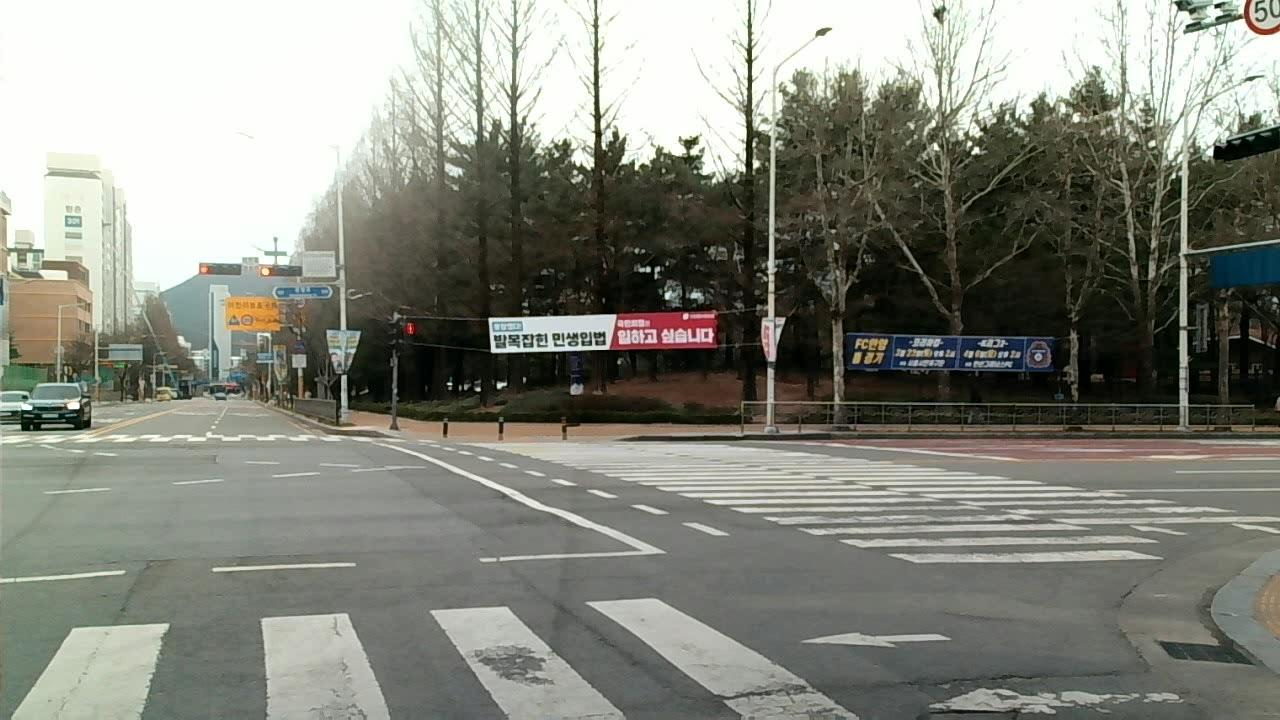banner: (844, 330, 1053, 380), (485, 315, 720, 353)
erosion: (476, 640, 554, 690)
hcrack: (706, 664, 1142, 704)
vcrack: (556, 600, 633, 664)
